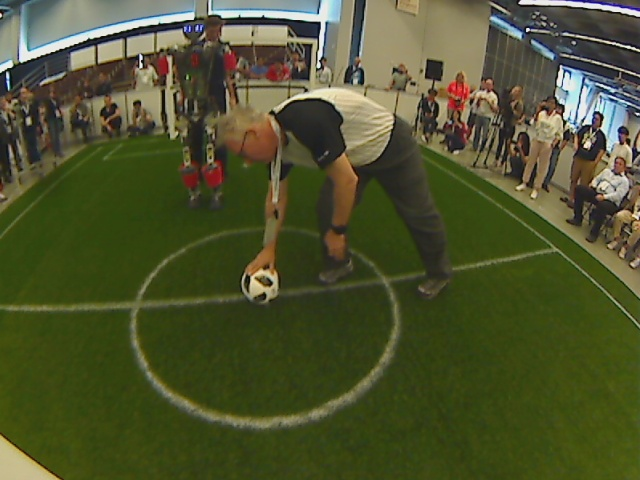ball: (237, 264, 283, 307)
